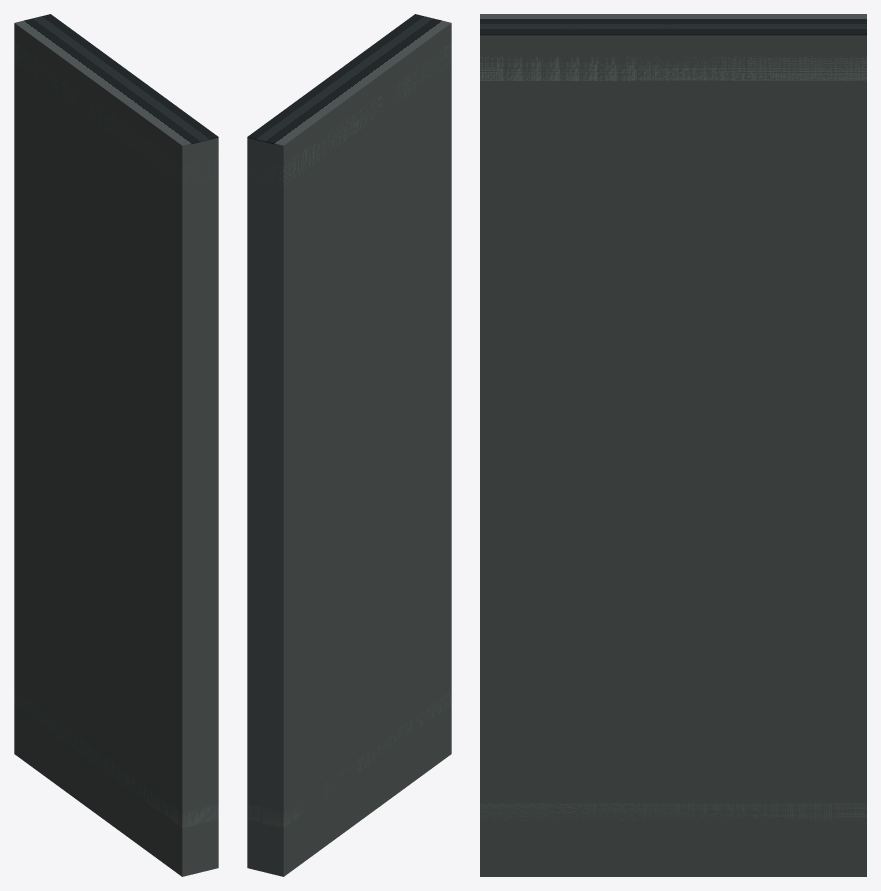
File: CMU3DInteriorVehicleAPCWallSmallR.glb
3 views of the same model, side by side, from view 1: azimuth 30°, elevation 25°; view 2: azimuth 150°, elevation 25°; view 3: azimuth 270°, elevation 25° (orthographic). The views are drawn at different scales.
Parts seen in each view (by area): view 1: cabin bulkhead, cabin bulkhead source finish, lower armor trim; view 2: cabin bulkhead, cabin bulkhead source finish, lower armor trim, upper armor trim; view 3: cabin bulkhead, cabin bulkhead source finish, upper armor trim, lower armor trim.
Boxes of the visible parts, x1,y1,x2,y2 form: cabin bulkhead: (14, 24, 218, 876); cabin bulkhead source finish: (14, 14, 218, 146); lower armor trim: (14, 691, 218, 828); cabin bulkhead: (247, 24, 451, 876); cabin bulkhead source finish: (247, 14, 451, 146); lower armor trim: (247, 691, 451, 828); upper armor trim: (249, 45, 451, 185); cabin bulkhead: (480, 35, 866, 876); cabin bulkhead source finish: (480, 14, 866, 35); upper armor trim: (480, 56, 866, 80); lower armor trim: (480, 803, 866, 820).
Bounding box in the file's own units: 0.125 × 2.4 × 1.
Materials: 4 (1 with a texture image).
